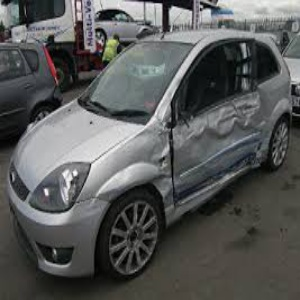door: (158, 100, 267, 227)
